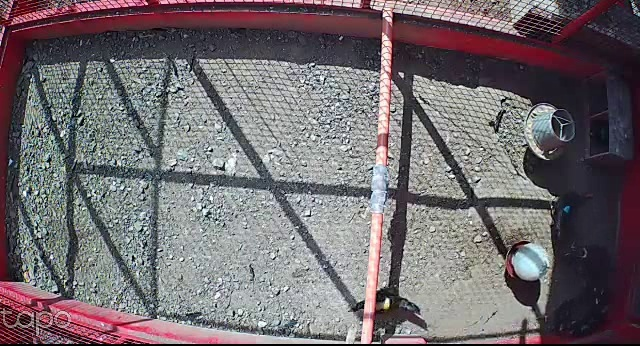Chicken: (547, 190, 595, 257), (344, 285, 426, 321)
Saddle_Color_Blue: (563, 205, 570, 211)
Saddle_Color_Yellow: (371, 296, 391, 313)
